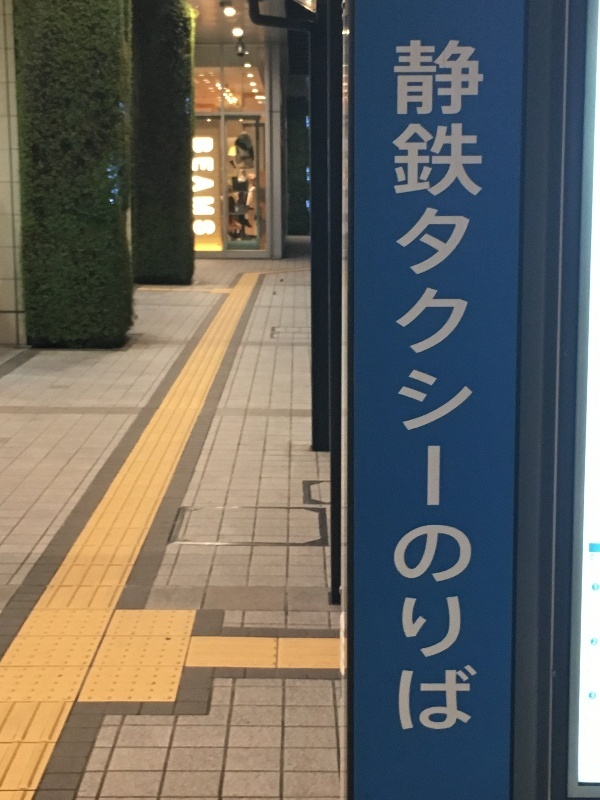text: (401, 35, 416, 733), (417, 35, 432, 733), (433, 35, 448, 733), (449, 35, 464, 733), (465, 35, 480, 733), (394, 35, 400, 733), (481, 35, 485, 733), (193, 138, 208, 238), (209, 138, 216, 238)
